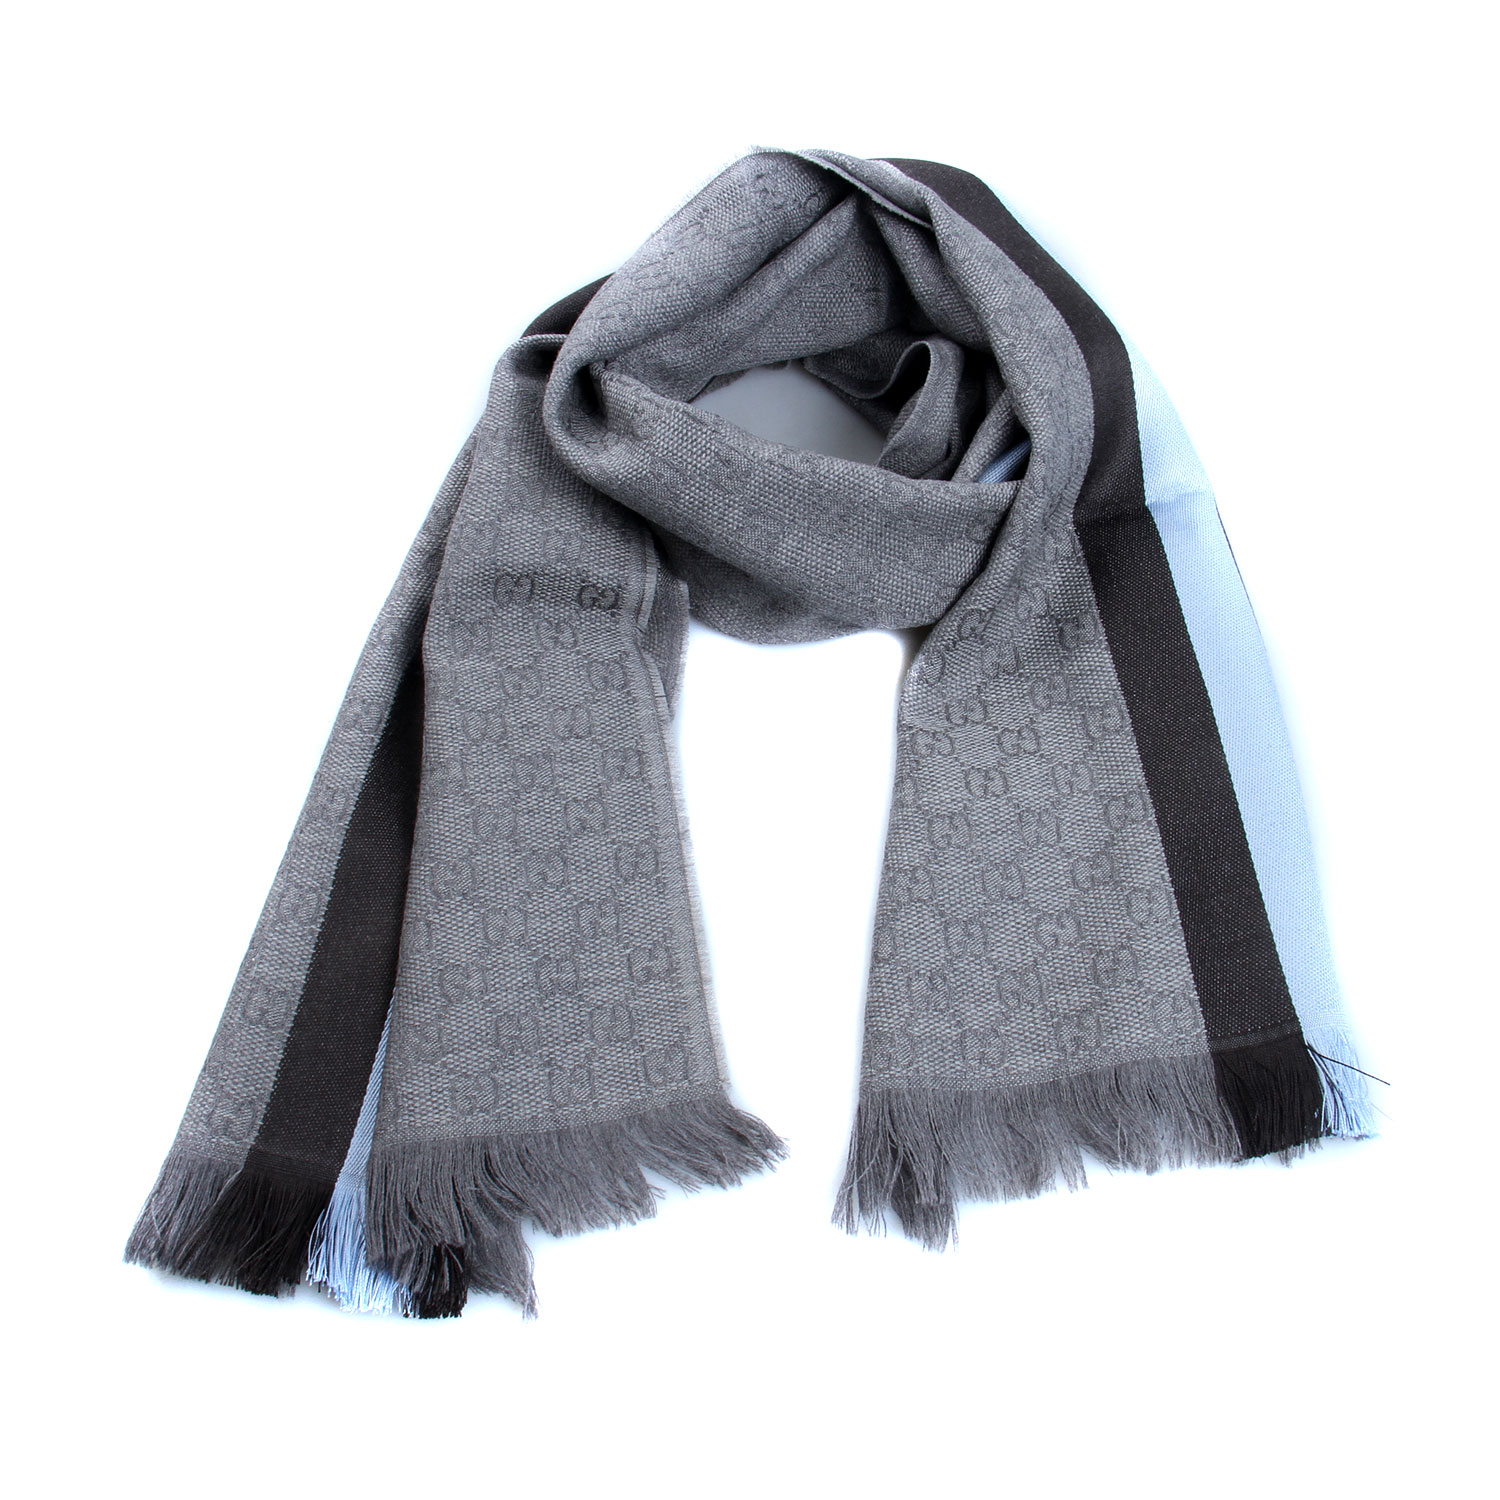flexible: (150, 135, 1385, 1326)
